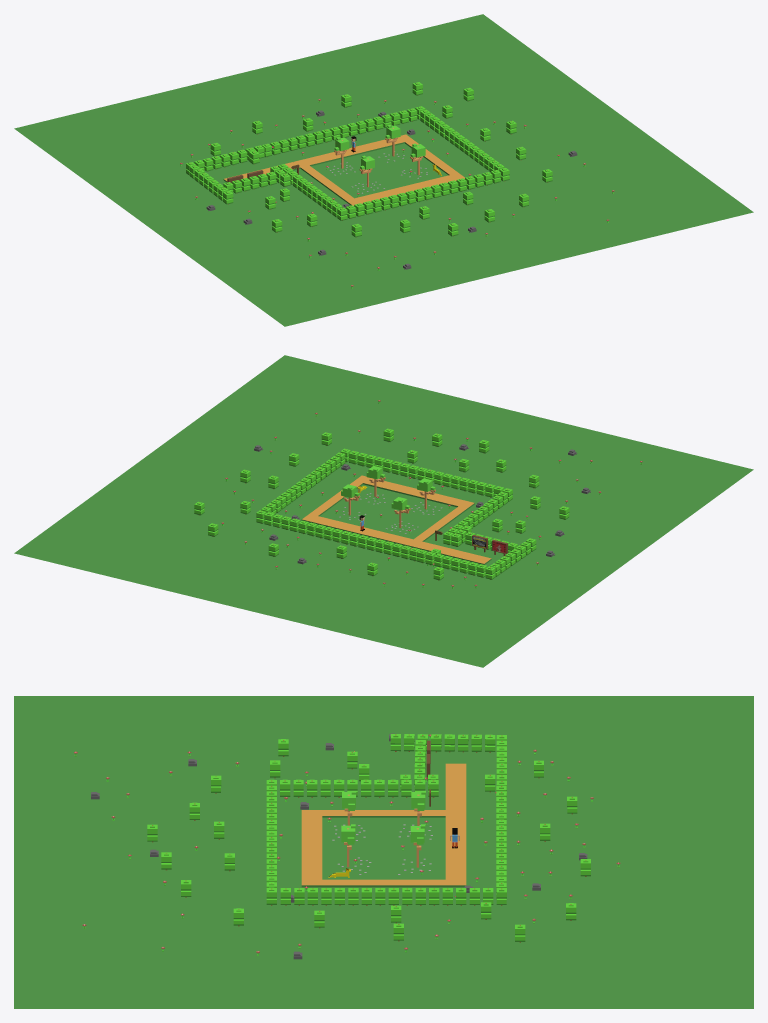
File: portfolio.glb
3 views of the same model, one above another, from view 1: azimuth 30°, elevation 25°; view 2: azimuth 150°, elevation 25°; view 3: azimuth 270°, elevation 25° (orthographic). The views are drawn at different scales.
Visible parts, largest first — view 1: surface; view 2: surface; view 3: surface.
Part boxes in pixels (left/top/right/bottom): surface: left=14, top=14, right=753, bottom=326; surface: left=14, top=355, right=753, bottom=667; surface: left=14, top=696, right=753, bottom=1008.
Size of the model in its own units: 646 by 39.2 by 646.
29 materials, 2 textured.
